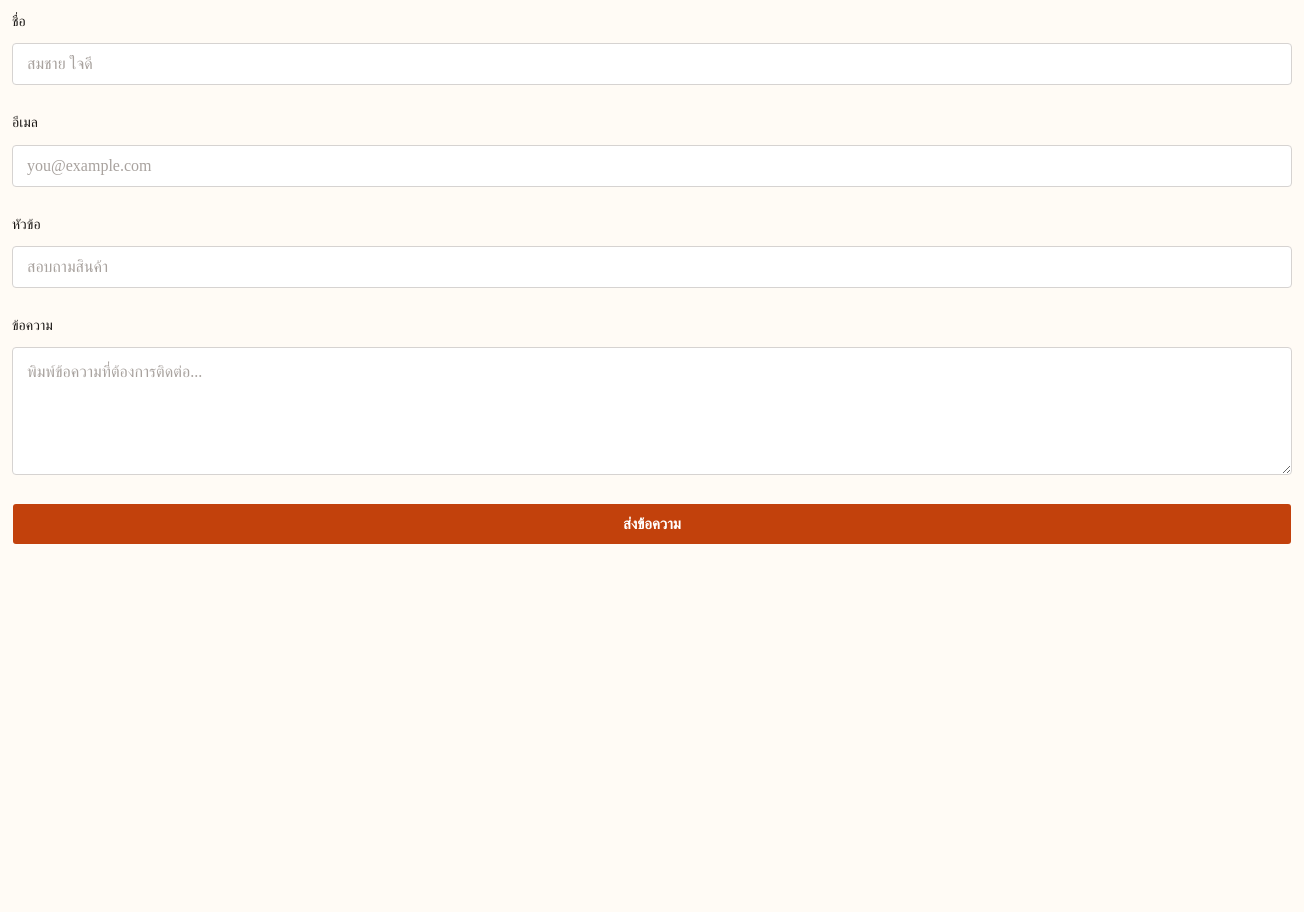
Test: ContactForm › shows validation errors when submitted empty
Click the button "ส่งข้อความ": (652, 524) [12,503,1292,545]
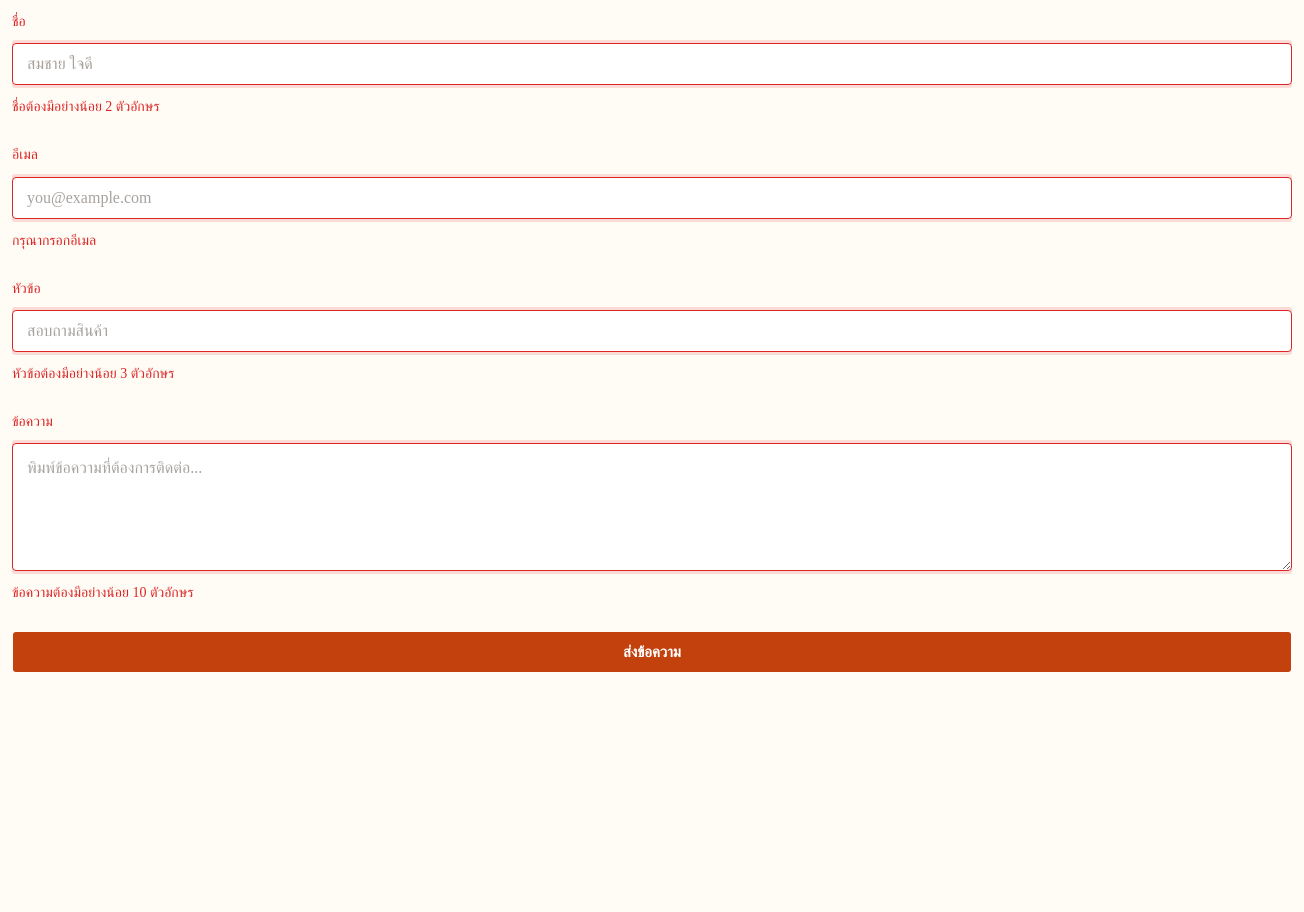
Check: the text "ชื่อต้องมีอย่างน้อย 2 ตัวอักษร" is shown, box [12,99,160,114]
Check: the text "กรุณากรอกอีเมล" is shown, box [12,232,96,248]
Check: the text "หัวข้อต้องมีอย่างน้อย 3 ตัวอักษร" is shown, box [12,366,174,381]
